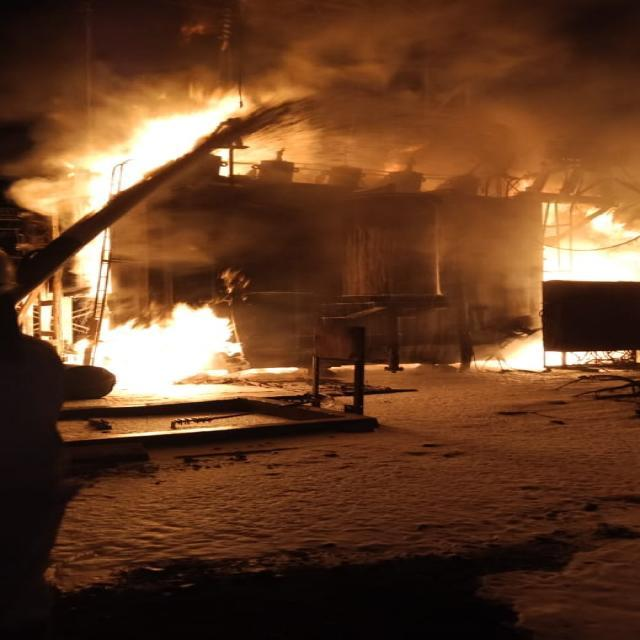Fire: (27, 86, 640, 400)
Smoke: (36, 3, 618, 80)
